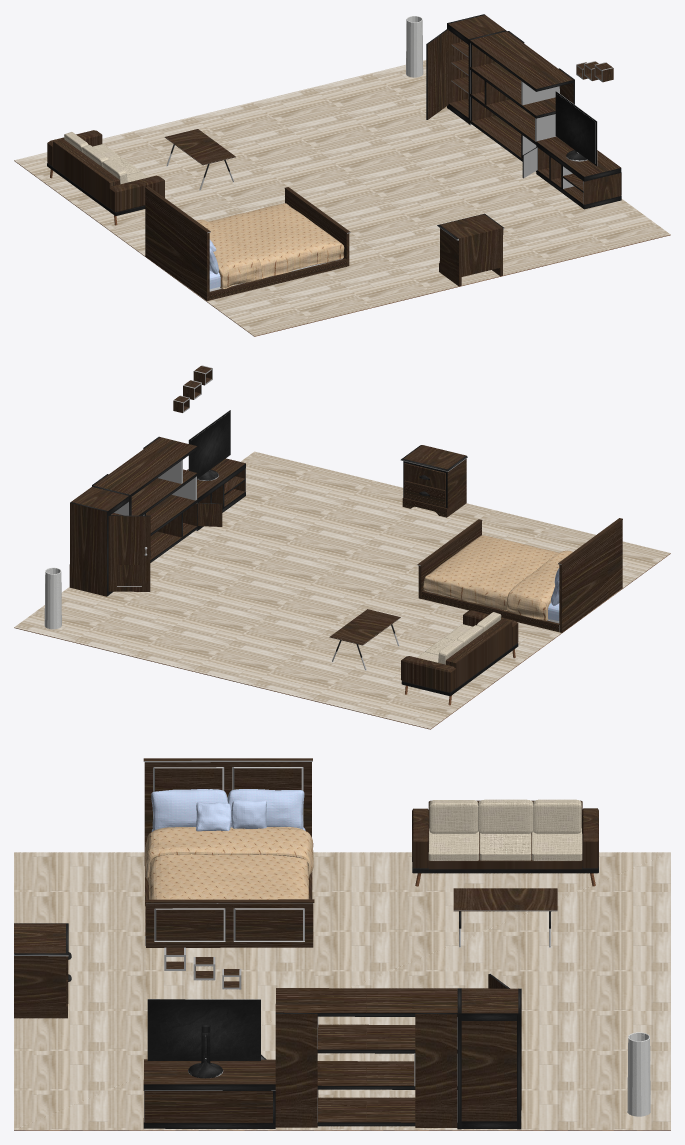
File: T1 Set 2 Pos 3.glb
3 renders of one model, top to bottom at view 1: azimuth 30°, elevation 25°; view 2: azimuth 150°, elevation 25°; view 3: azimuth 270°, elevation 25°, orthographic. The views are drawn at different scales.
Size of the model in its own units: 0.2923 by 0.0855 by 0.292.
Materials: 10 (9 with a texture image).
